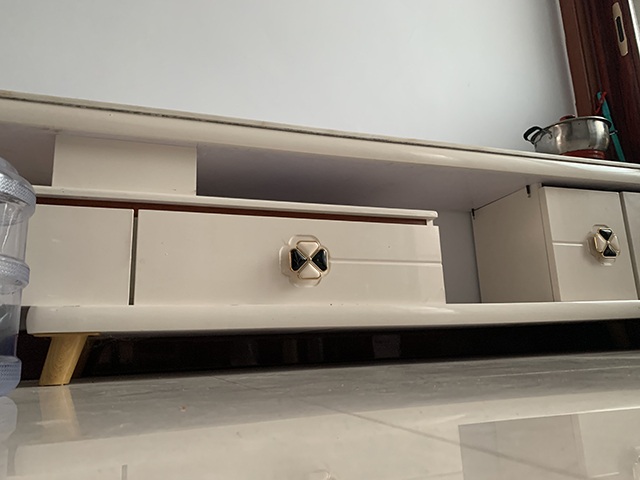cabinet: (1, 87, 640, 389)
